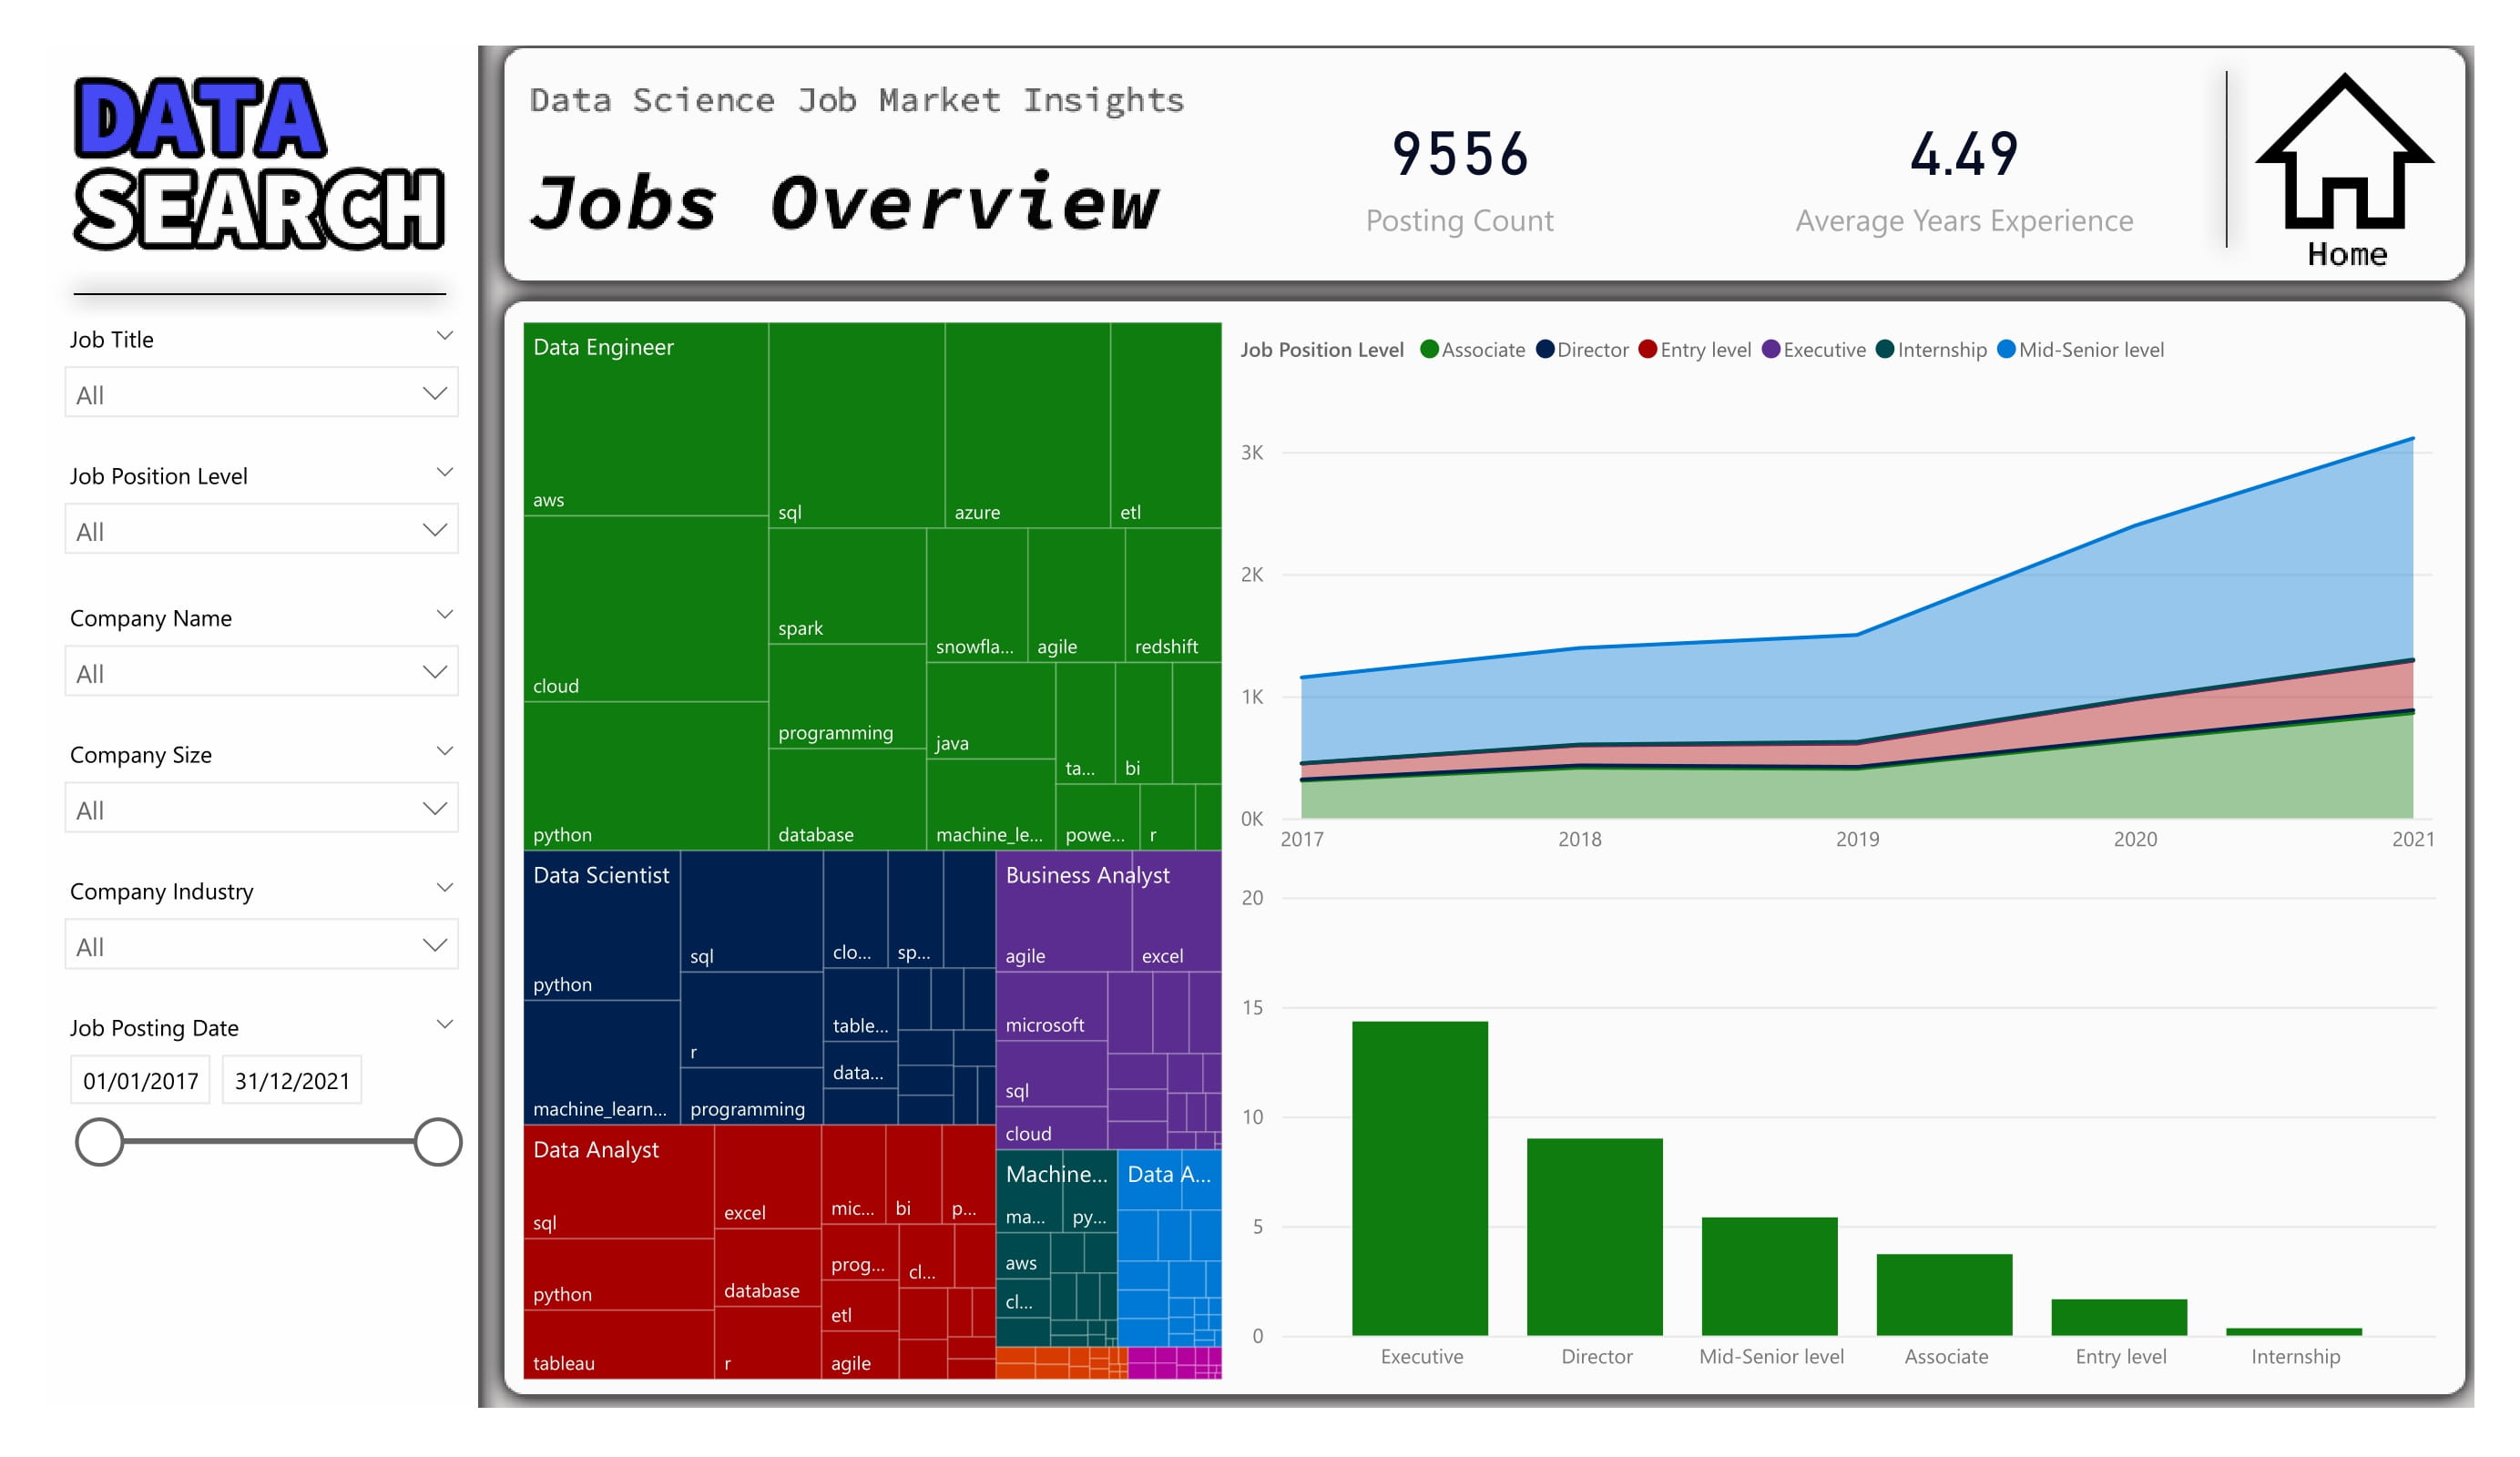

The page's visual inventory and layout, read from the dashboard file:
{"tool":"powerbi","page":{"name":"Jobs","canvas":[1280,720],"ordinal":1},"visuals":[{"type":"columnChart","fields":{"Y":["Avg(Job Postings.Years of Experience)"],"Category":["Job Postings.Job Position Level"]},"box":[625.4,434.8,640,273.3],"z":0},{"type":"stackedAreaChart","fields":{"Category":["Job Postings.Job Posting Date.Variation.Date Hierarchy.Year","Job Postings.Job Posting Date.Variation.Date Hierarchy.Quarter","Job Postings.Job Posting Date.Variation.Date Hierarchy.Month","Job Postings.Job Posting Date.Variation.Date Hierarchy.Day"],"Y":["CountNonNull(Job Postings.Job Posting ID)"],"Series":["Job Postings.Job Position Level"]},"box":[625.4,141,640,293.7],"z":1000},{"type":"treemap","fields":{"Group":["Job Postings.Job Title"],"Values":["CountNonNull(Job Skills.Job Skills)"],"Details":["Job Skills.Job Skills"]},"box":[247.1,141,378.4,567.1],"z":2000},{"type":"slicer","fields":{"Values":["Job Postings.Job Title"]},"box":[0,141,227.6,72],"z":3000},{"type":"slicer","fields":{"Values":["Job Postings.Job Position Level"]},"box":[0,213,227.6,72],"z":4000},{"type":"slicer","fields":{"Values":["Job Postings.Company Name"]},"box":[0,287.9,227.6,72],"z":5000},{"type":"slicer","fields":{"Values":["Job Postings.Company Size"]},"box":[0,359.9,227.6,72],"z":6000},{"type":"slicer","fields":{"Values":["Job Postings.Company Industry"]},"box":[0,431.9,227.6,72],"z":7000},{"type":"slicer","fields":{"Values":["Job Postings.Job Posting Date"]},"box":[0,503.8,227.6,215.9],"z":8000},{"type":"card","fields":{"Values":["_Measures.Posting Count"]},"box":[607.9,8.8,275.3,111.9],"z":9000},{"type":"card","fields":{"Values":["Avg(Job Postings.Years of Experience)"]},"box":[883.2,8.8,256.8,111.9],"z":10000},{"type":"image","box":[1159.4,0,106,111.9],"z":11000}]}

Visuals, with their boxes on the page's 1280x720 design canvas (x1, y1, x2, y2). These are canvas units, not pixel positions in the 2520x1457 screenshot, which may show the page scaled, cropped or inside an application window:
columnChart - Avg(Job Postings.Years of Experience) x Job Postings.Job Position Level: l=625, t=435, r=1265, b=708
stackedAreaChart - Job Postings.Job Posting Date.Variation.Date Hierarchy.Year x Job Postings.Job Posting Date.Variation.Date Hierarchy.Quarter: l=625, t=141, r=1265, b=435
treemap - Job Postings.Job Title x CountNonNull(Job Skills.Job Skills): l=247, t=141, r=626, b=708
slicer - Job Postings.Job Title: l=0, t=141, r=228, b=213
slicer - Job Postings.Job Position Level: l=0, t=213, r=228, b=285
slicer - Job Postings.Company Name: l=0, t=288, r=228, b=360
slicer - Job Postings.Company Size: l=0, t=360, r=228, b=432
slicer - Job Postings.Company Industry: l=0, t=432, r=228, b=504
slicer - Job Postings.Job Posting Date: l=0, t=504, r=228, b=720
card - _Measures.Posting Count: l=608, t=9, r=883, b=121
card - Avg(Job Postings.Years of Experience): l=883, t=9, r=1140, b=121
image: l=1159, t=0, r=1265, b=112
